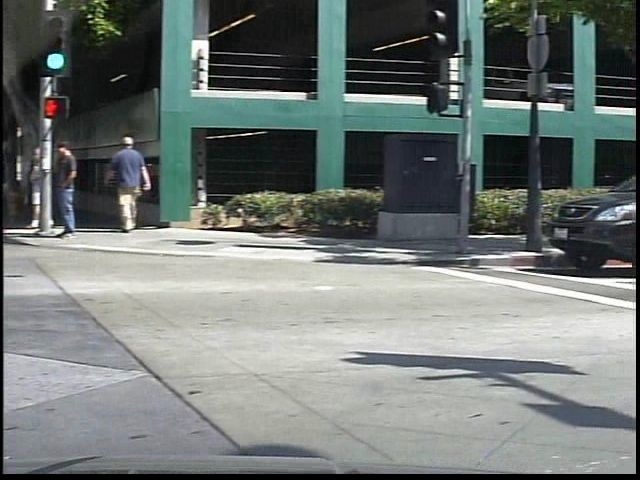person: (114, 134, 167, 235), (56, 133, 95, 244), (37, 143, 61, 232)
